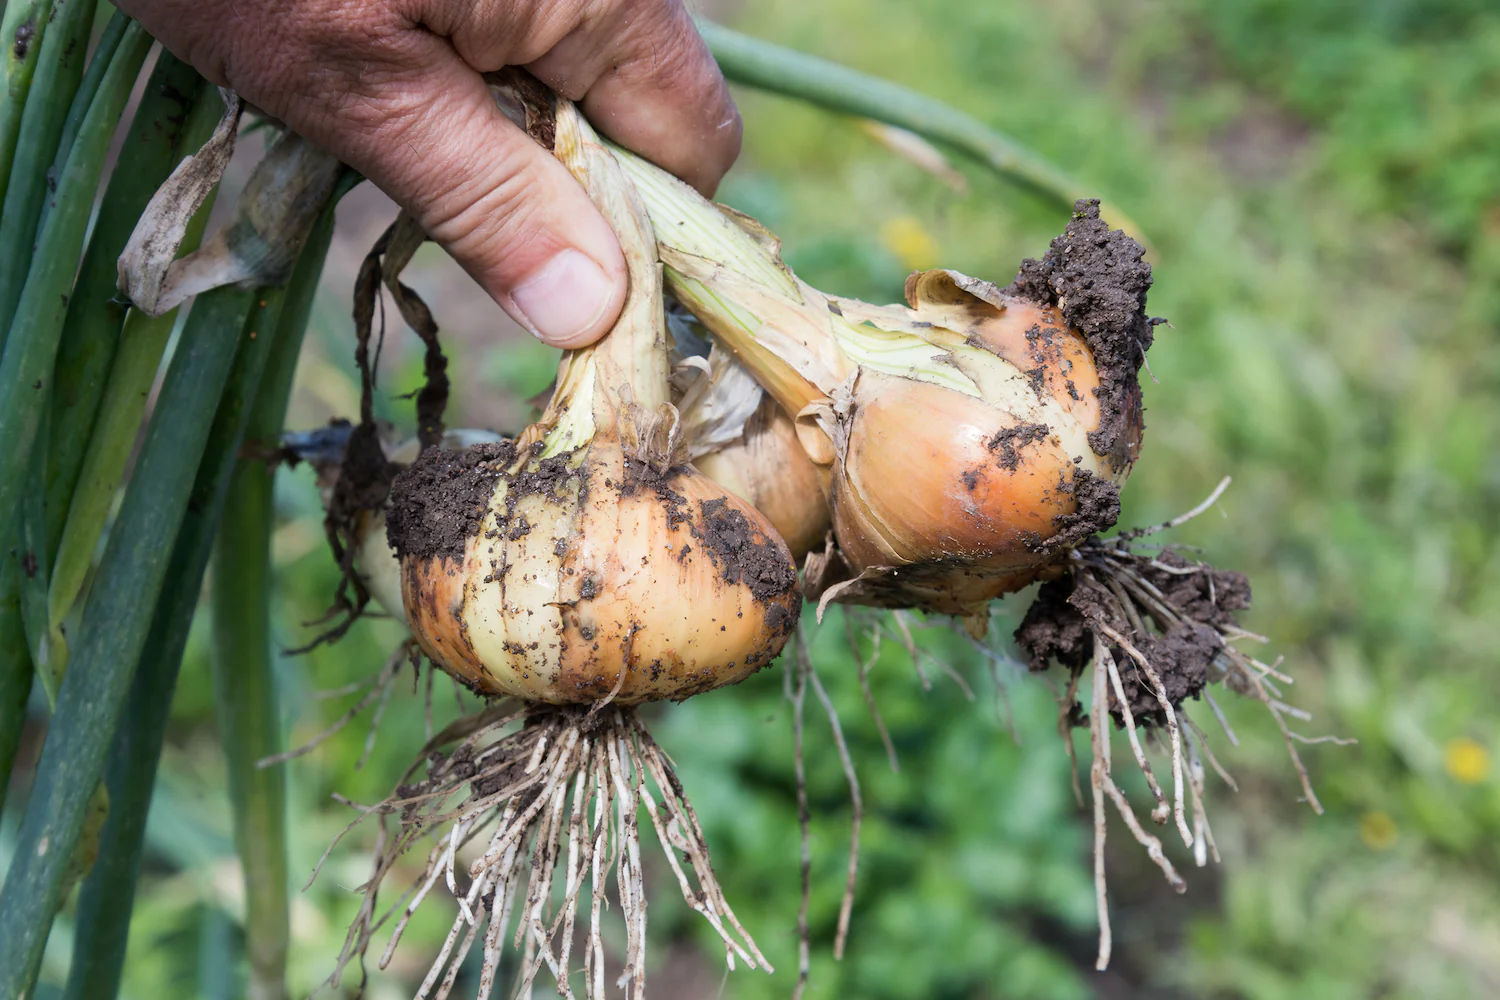onion: (449, 257, 1285, 993)
